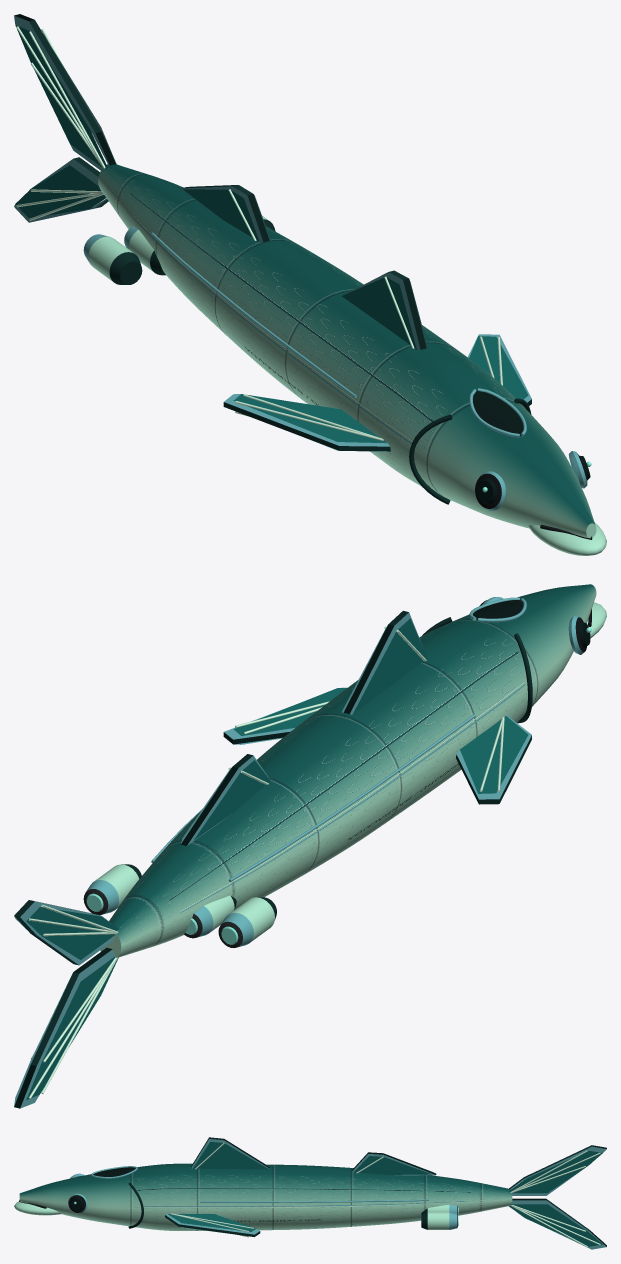
3 renders of one model, top to bottom at view 1: azimuth 30°, elevation 25°; view 2: azimuth 150°, elevation 25°; view 3: azimuth 270°, elevation 25°, orthographic. The views are drawn at different scales.
Parts seen in each view (by area): view 1: barracuda_hull; view 2: barracuda_hull; view 3: barracuda_hull.
Part boxes in pixels (bbox=[...]): barracuda_hull: bbox=[14, 14, 606, 555]; barracuda_hull: bbox=[14, 584, 606, 1108]; barracuda_hull: bbox=[14, 1137, 606, 1249].
Size of the model in its own units: 10.99 by 8.25 by 40.
1 material, 1 textured.
